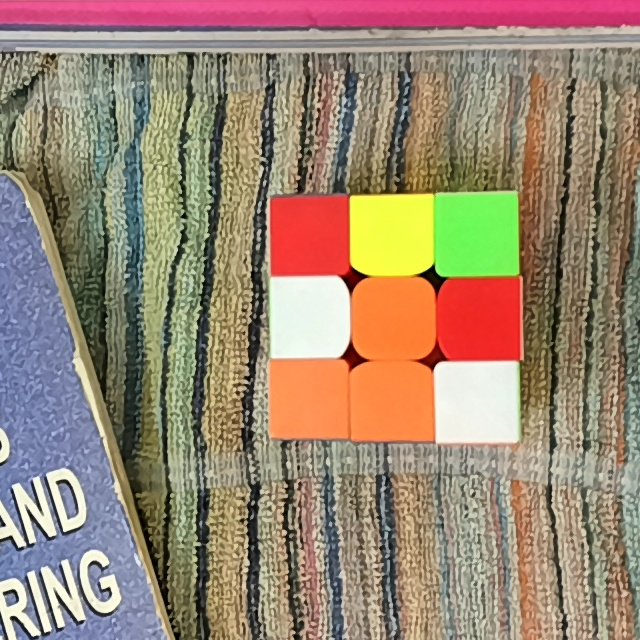tile: (442, 197, 514, 271), (439, 366, 513, 437), (448, 284, 516, 356), (274, 365, 344, 432), (357, 370, 428, 436), (275, 202, 343, 270), (275, 283, 341, 352), (358, 201, 427, 266), (362, 287, 425, 353)
